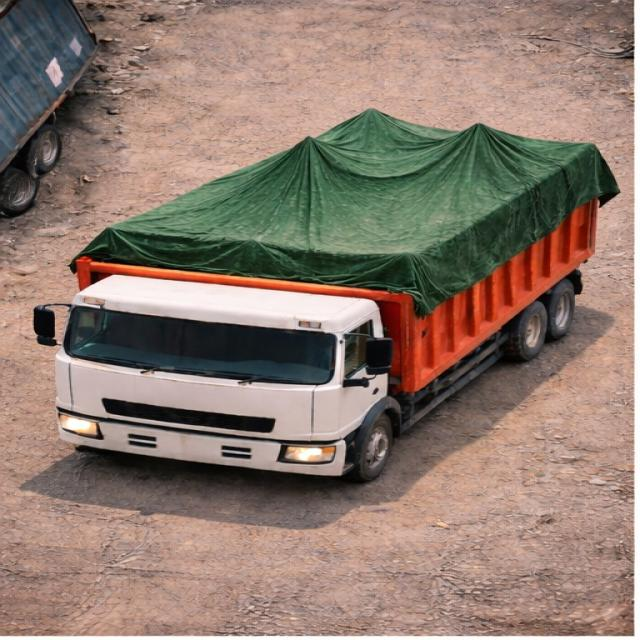trailer: (72, 106, 610, 300)
truck: (28, 81, 627, 478)
